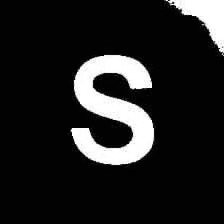LTR_S: (65, 49, 159, 170)
